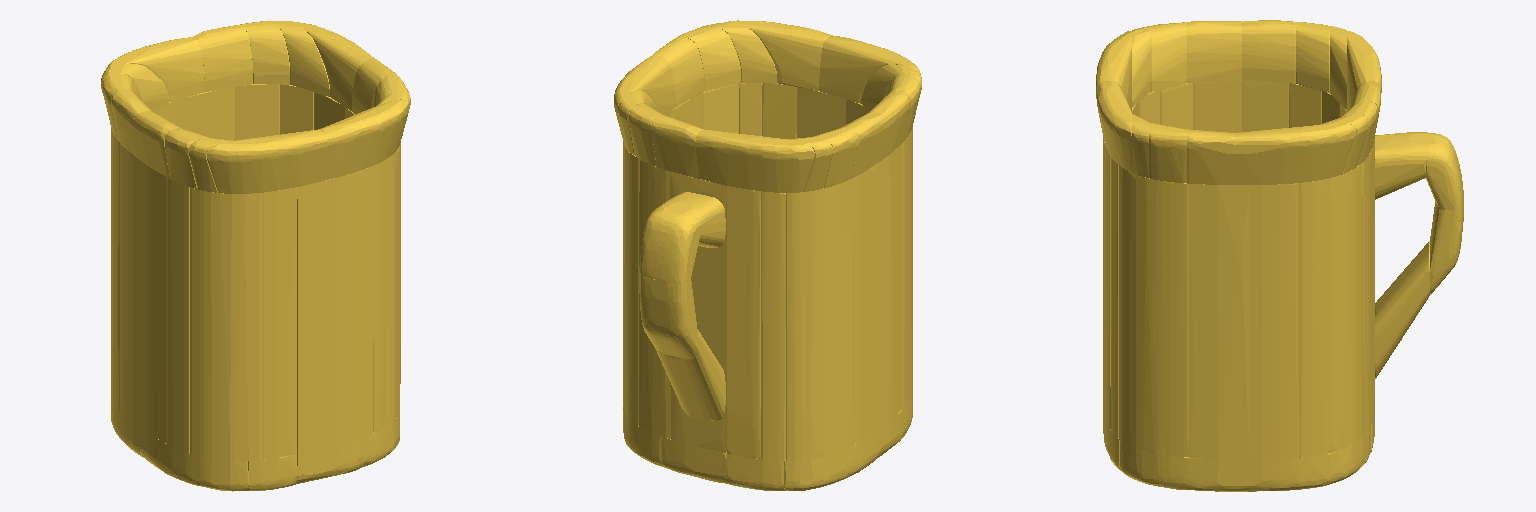
The robot description file, URDF, robot "420.urdf":
<?xml version="1.0" ?>
<robot name="420.urdf">
	<link name="baseLink">
		<inertial>
			<origin rpy="0 0 0" xyz="0 0 0"/>
				<mass value="0.1"/>
				<inertia ixx="6e-5" ixy="0" ixz="0" iyy="6e-5" iyz="0" izz="6e-5"/>
		</inertial>
		<visual>
			<origin rpy="0 0 0" xyz="0 0 0"/>
			<geometry>
				<mesh filename="37_decom_wt.obj" scale="0.81 0.81 0.95"/>
			</geometry>
			<material name="yellow">
				<color rgba="0.98 0.84 0.35 1"/>
			</material>
		</visual>
		<collision>
			<origin rpy="0 0 0" xyz="0 0 0"/>
			<geometry>
				<mesh filename="37_decom_wt.obj" scale="0.81 0.81 0.95"/>
			</geometry>
		</collision>
	</link>
</robot>

--- What the picture shows (computed from the rendered views, not written in the file) ---
Views: 3 orthographic renders of the robot side by side, from view 1: azimuth 30°, elevation 25°; view 2: azimuth 150°, elevation 25°; view 3: azimuth 270°, elevation 25°.
Model 420.urdf with 1 links and 0 joints (none), rooted at baseLink, posed all joints at 0.
Visible links, largest first — view 1: baseLink; view 2: baseLink; view 3: baseLink.
Link boxes in pixels (x1,y1,x2,y2): baseLink: (101,20,410,491); baseLink: (614,20,921,490); baseLink: (1096,20,1463,491).
Bounding box of the posed robot: 0.092 × 0.1189 × 0.1288 m (x, y, z).
Meshes: 1 distinct files referenced, 1 mesh visuals loaded (1 OBJ).